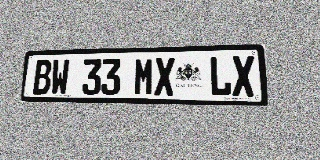3: (101, 58, 121, 95), (82, 59, 102, 95)
B: (33, 60, 52, 95)
L: (209, 56, 232, 96)
M: (134, 58, 154, 96)
W: (50, 59, 70, 95)
X: (231, 56, 255, 96), (154, 57, 175, 96)
